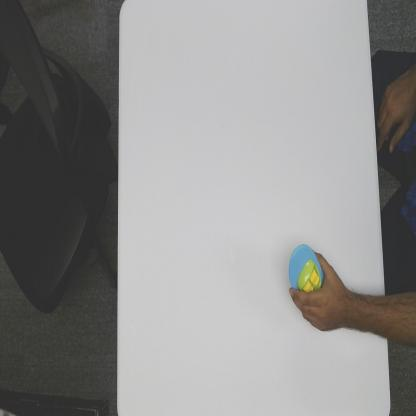Arm: (347, 290, 387, 335)
Boat: (288, 240, 325, 292)
Hand: (289, 250, 346, 332)
